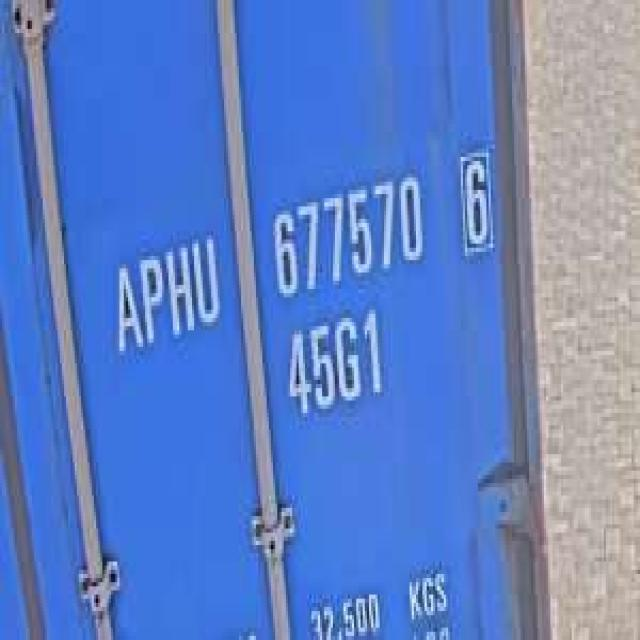dv: (454, 139, 498, 266)
owner: (112, 223, 225, 370)
serial: (271, 160, 426, 303)
size: (284, 305, 388, 413)
